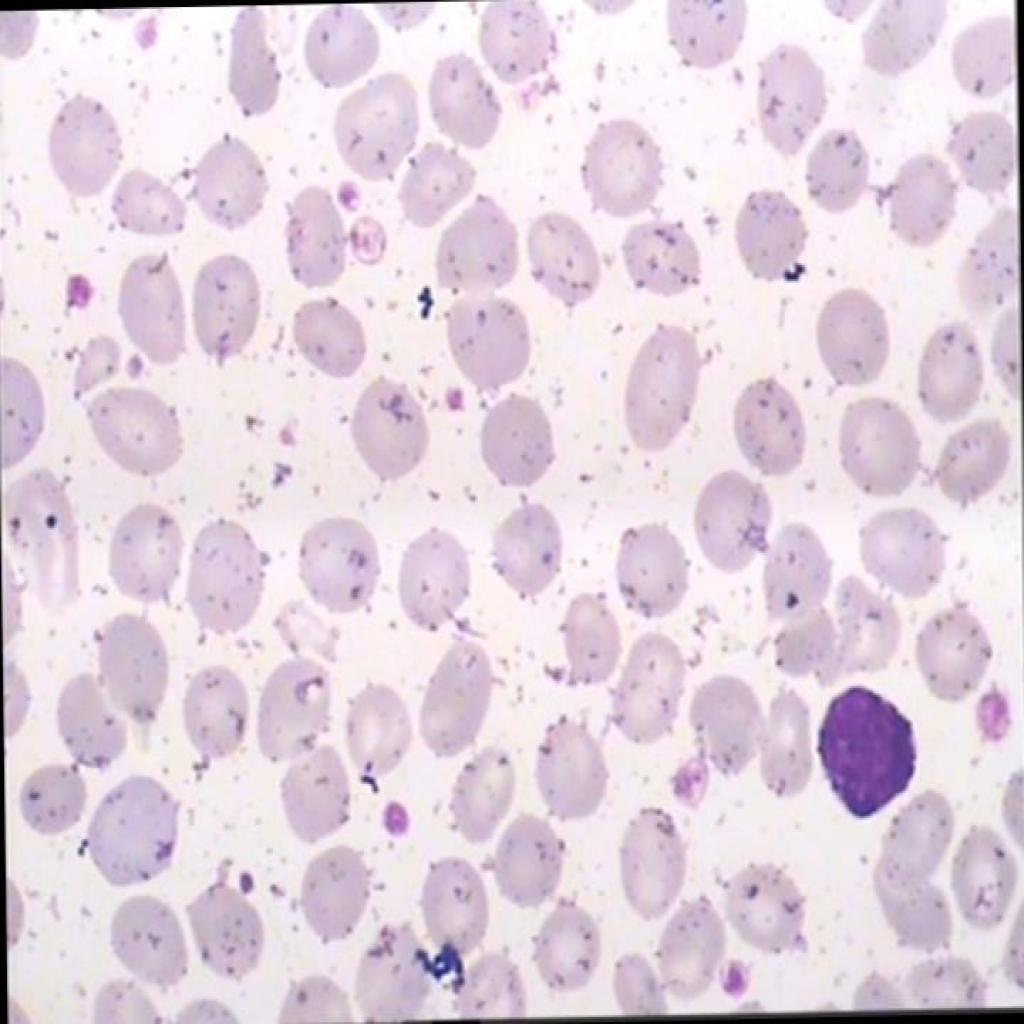Basofil: (806, 665, 936, 843)
Platelet: (967, 679, 1024, 761), (54, 265, 104, 331), (371, 794, 425, 852), (667, 741, 710, 809), (708, 944, 754, 1001), (430, 361, 475, 418), (125, 7, 168, 62), (115, 338, 154, 393), (330, 167, 361, 219)
